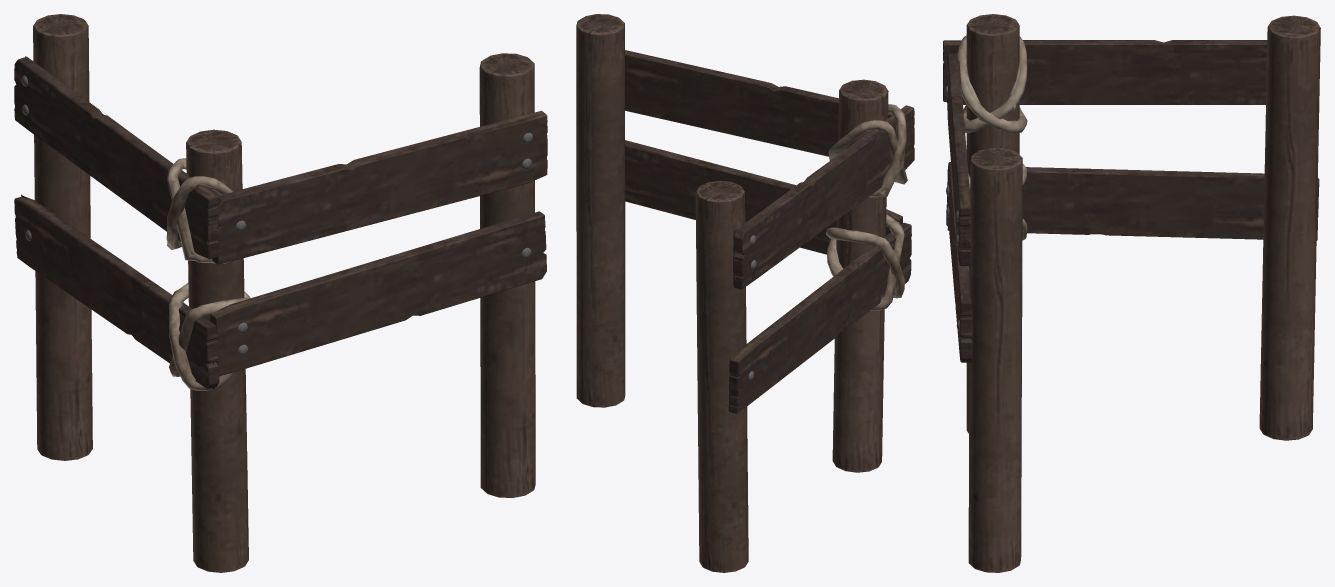
Rendered from Fence04.glb.
3 renders of one model, left to right at view 1: azimuth 30°, elevation 25°; view 2: azimuth 150°, elevation 25°; view 3: azimuth 270°, elevation 25°, orthographic. The views are drawn at different scales.
Parts seen in each view (by area): view 1: FenceD; view 2: FenceD; view 3: FenceD.
Boxes of the visible parts, box(x1,y1,x2,y2) form: FenceD: box(14, 14, 547, 572); FenceD: box(576, 14, 914, 572); FenceD: box(943, 14, 1320, 572).
Bounding box in the file's own units: 1.07 × 1.2 × 1.01.
2 materials, 2 textured.
